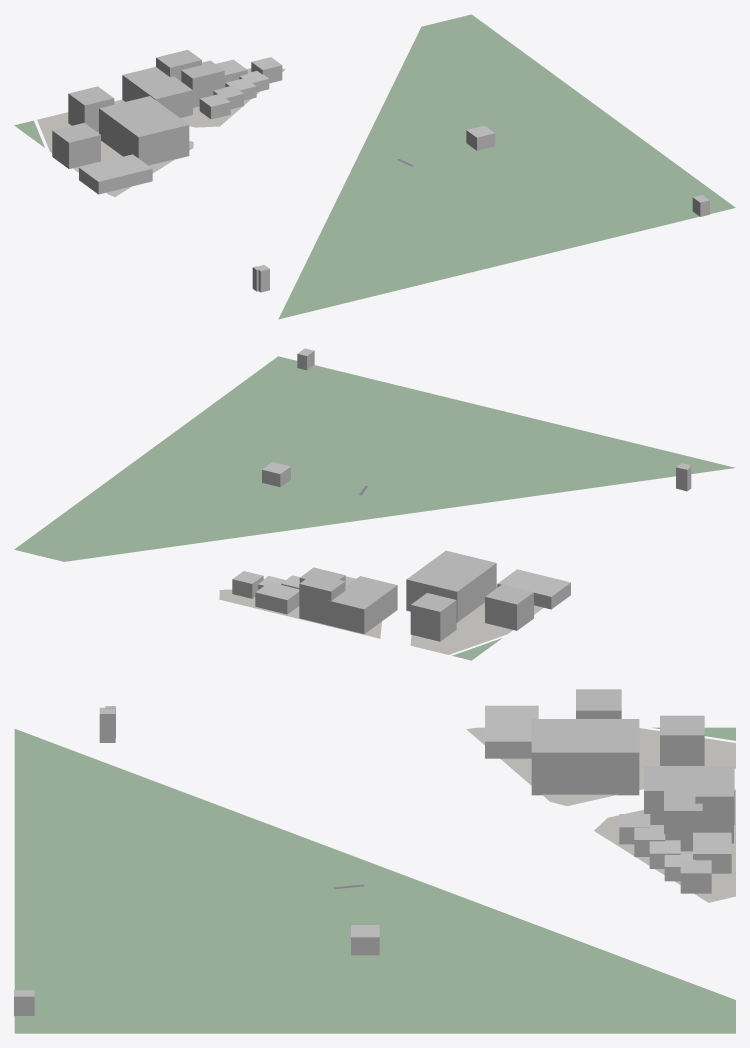
The model's file is 105_108_mid.glb.
3 renders of one model, top to bottom at view 1: azimuth 30°, elevation 25°; view 2: azimuth 150°, elevation 25°; view 3: azimuth 270°, elevation 25°, orthographic. The views are drawn at different scales.
Bounding box in the file's own units: 508 × 36.46 × 500.
